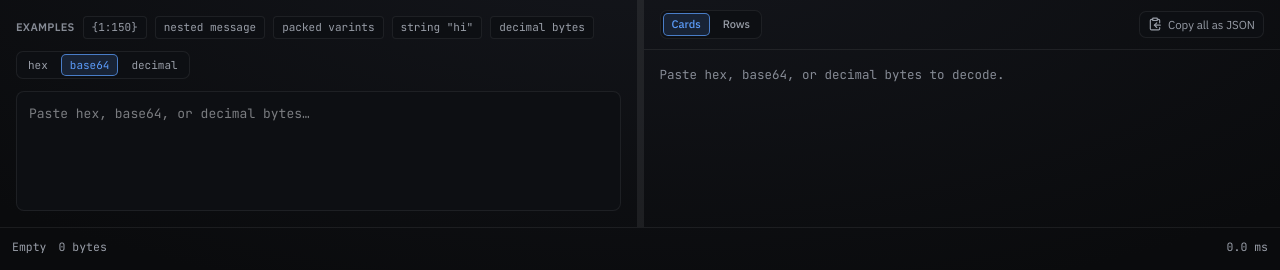
Test: ProtobufDecoder › clicking the decimal example chip fills + decodes the canonical array (D-10)
Click the button "decimal bytes" at (542, 27), box [490,16,594,38]
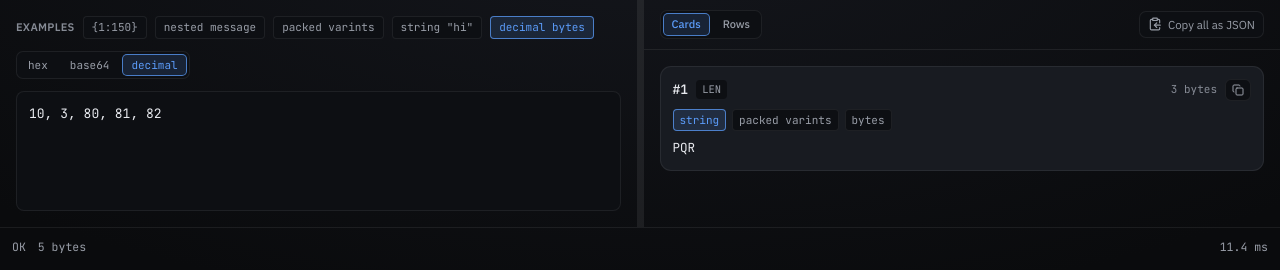
expect the text box named "Protobuf input" holds "10, 3, 80, 81, 82": met, box [16,91,620,211]
expect the text "#1" is shown: met, box [672,80,688,99]
